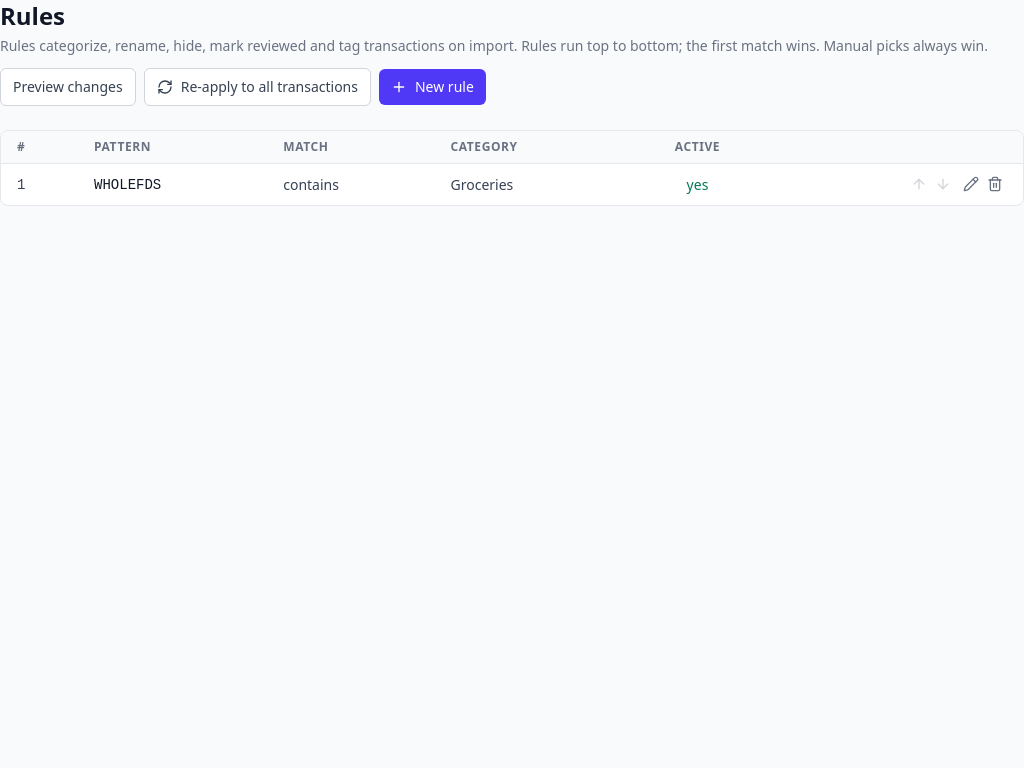
it: RulesPage smoke › renames the merchant from a rule, previews it, and clears it on edit
Click the button "New rule" at (432, 87), box [379, 69, 486, 105]
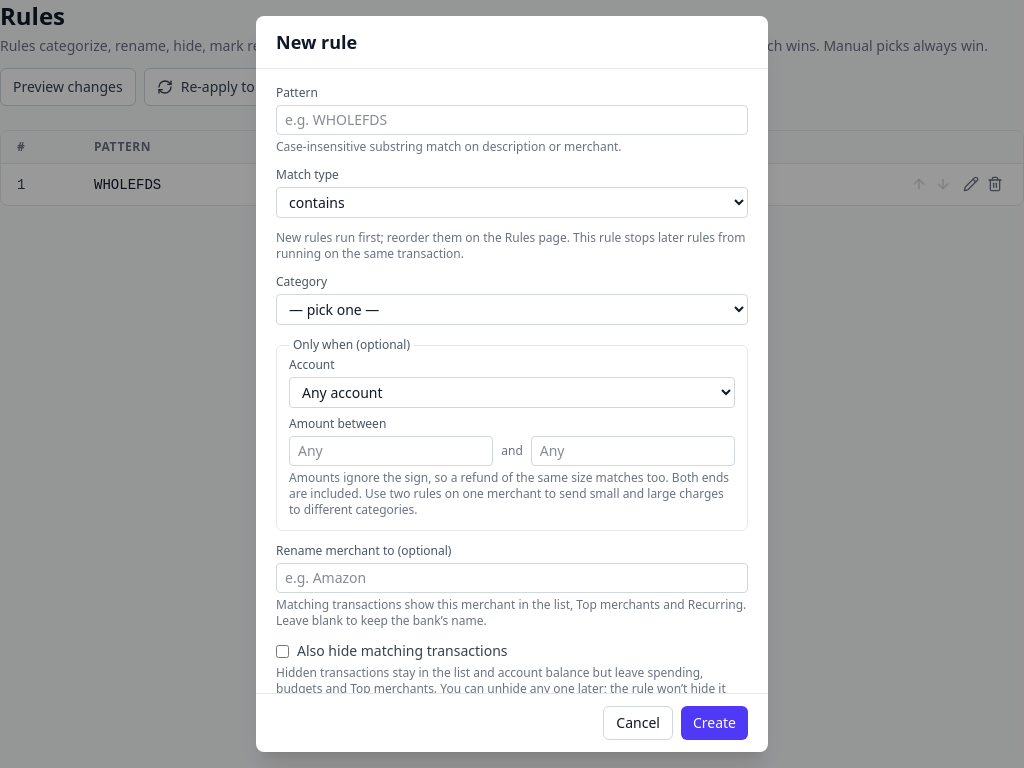
Type "AMZN" into the field with placeholder "e.g. WHOLEFDS" at (512, 120), box [276, 105, 748, 135]
Select "Groceries" in the dropdown labelled "Category" at (512, 310), box [276, 294, 748, 325]
Type "  Amazon " into the field labelled "Rename merchant to" at (512, 578), box [276, 563, 748, 593]
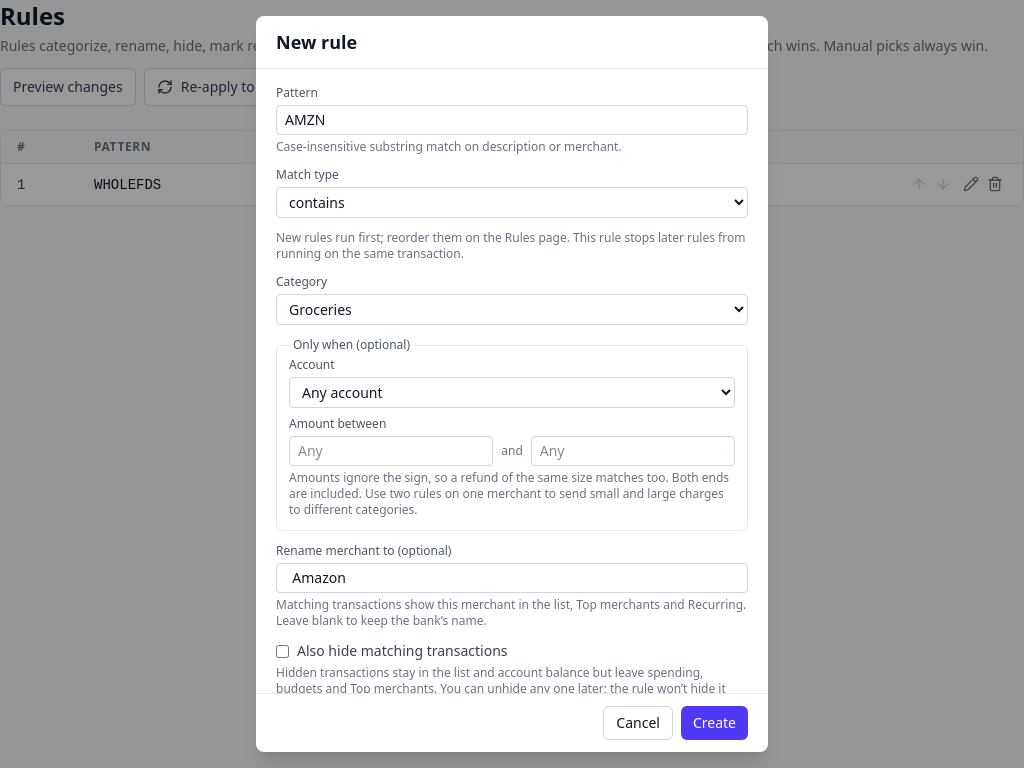
Result: the text "New rules run first; reorder them on the Rules page." is shown at [276, 229, 570, 246]
Click the button "Create" at (714, 723), box [681, 706, 748, 740]
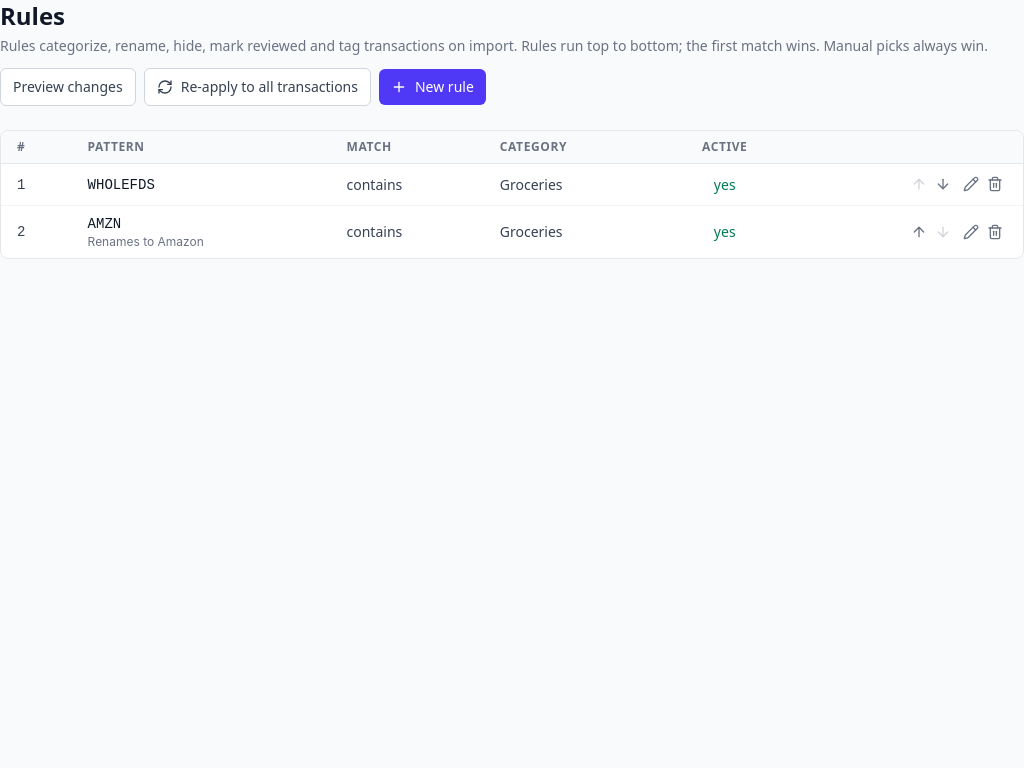
Result: the text "Renames to Amazon" is shown at [88, 234, 204, 249]
Click the button named "edit" in the row of "AMZN" at (971, 232), box [959, 220, 983, 244]
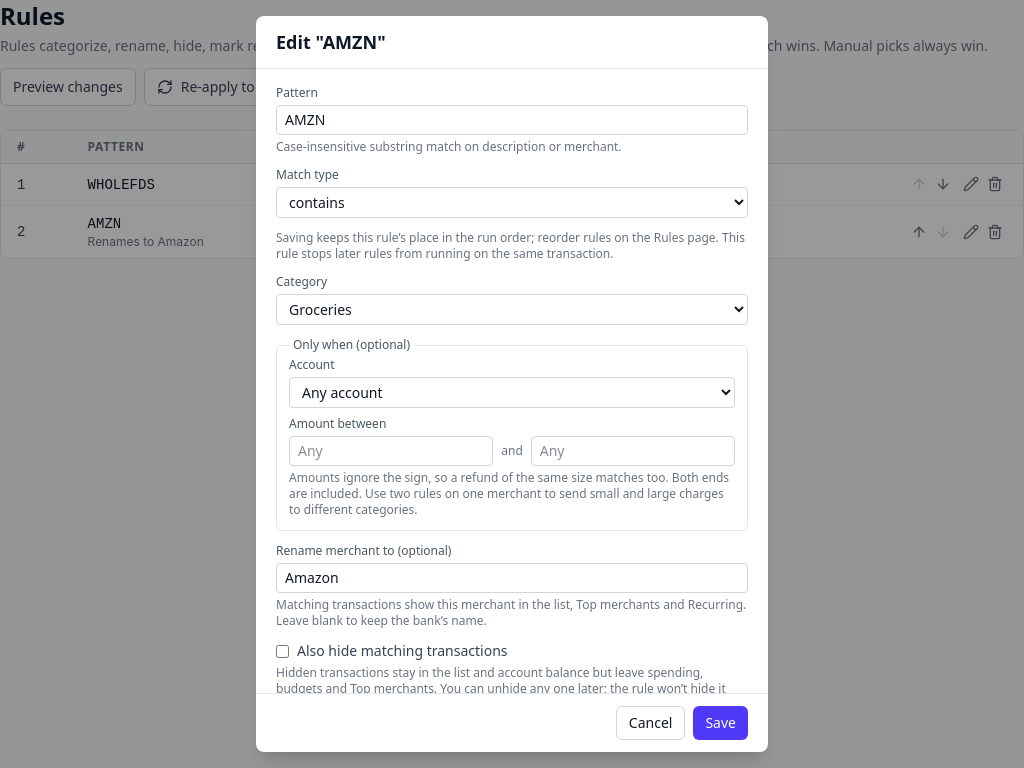
Result: the field labelled "Rename merchant to" holds "Amazon"
Clear the field labelled "Rename merchant to" at (512, 578), box [276, 563, 748, 593]
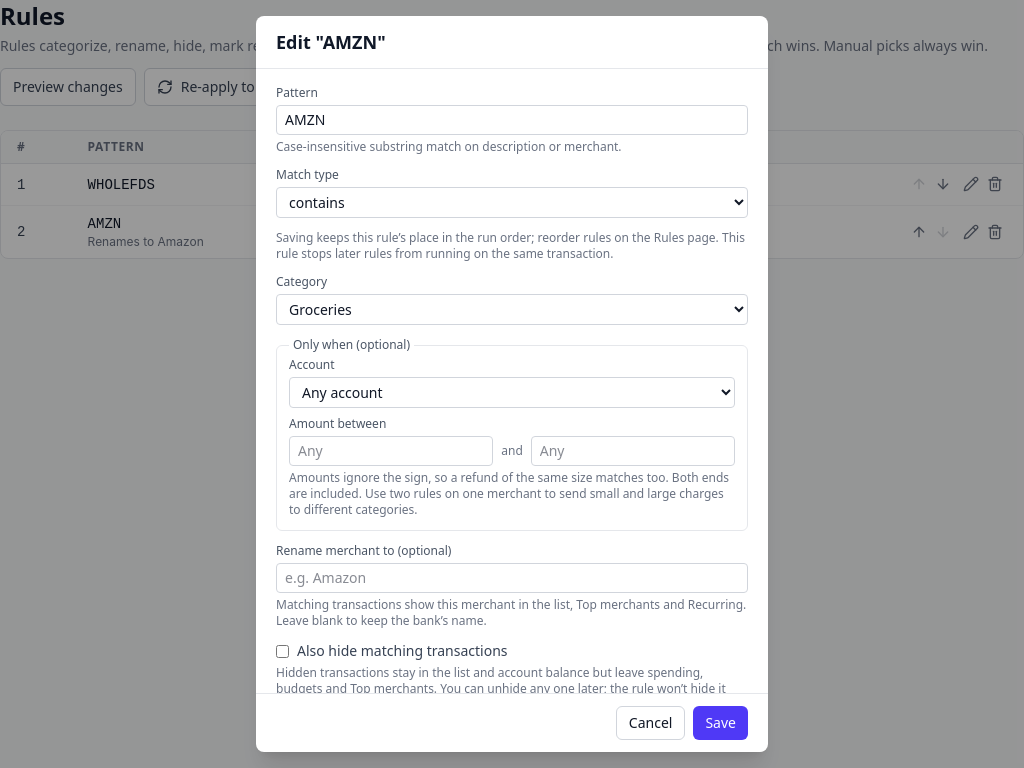
Click the button "Save" at (721, 723), box [693, 706, 748, 740]
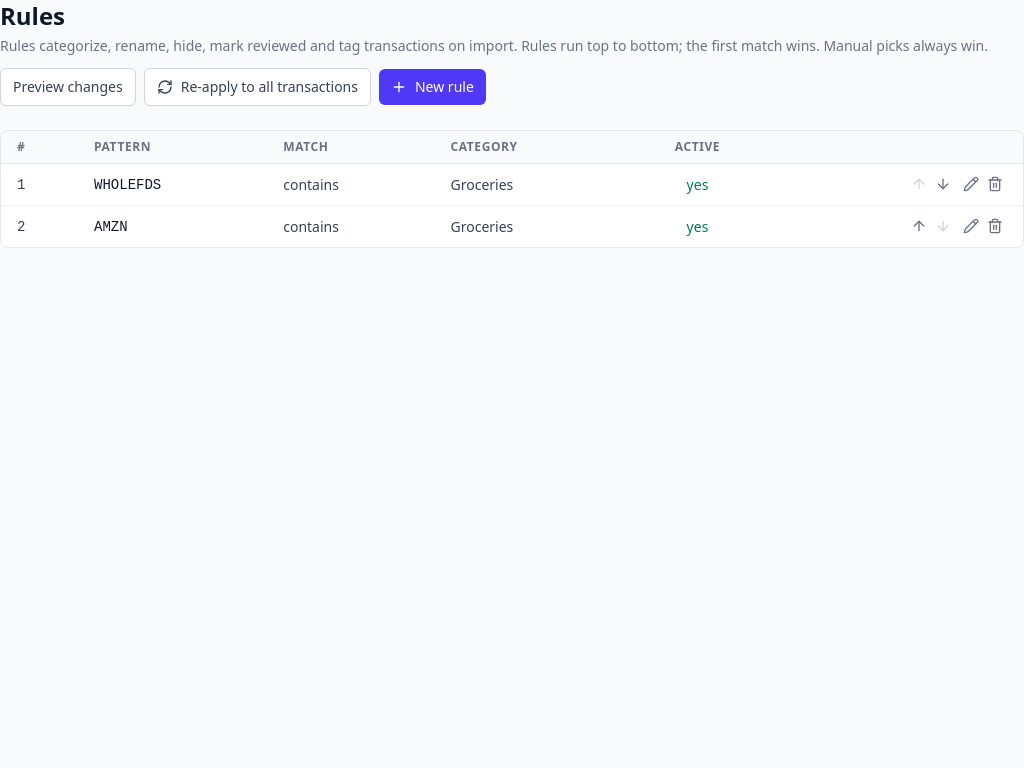
Result: the text "Renames to Amazon" is gone
